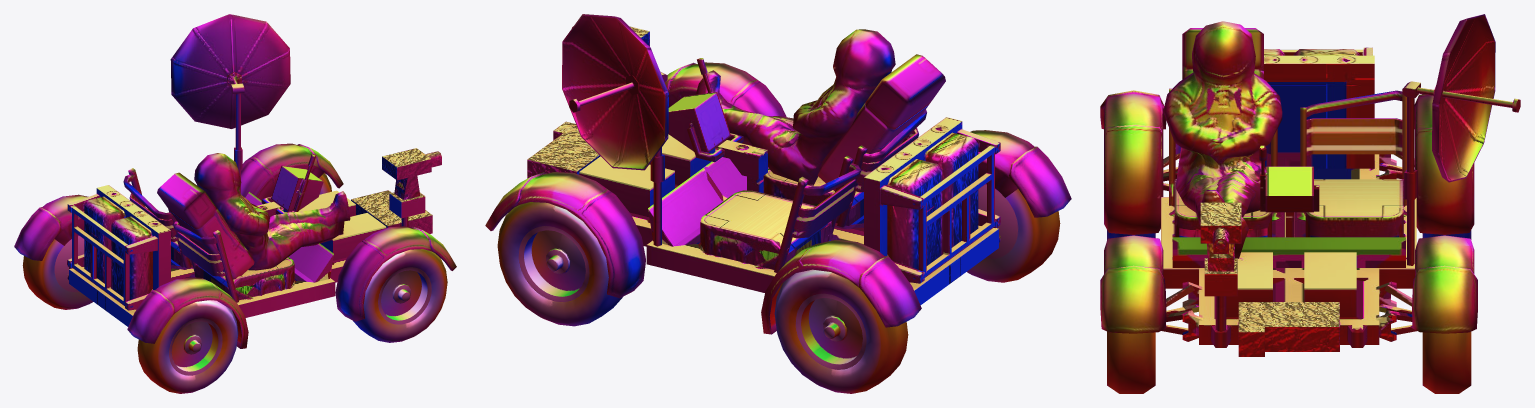
Rendered from f1_july_car_03_with_wheel.dae.
The picture shows the model from 3 angles, left to right: view 1: azimuth 30°, elevation 25°; view 2: azimuth 150°, elevation 25°; view 3: azimuth 270°, elevation 25°; orthographic projection. The views are drawn at different scales.
Parts seen in each view (by area): view 1: lunar_rover_body, lunar_rover_tires; view 2: lunar_rover_body, lunar_rover_tires; view 3: lunar_rover_body, lunar_rover_tires.
Boxes of the visible parts, x1=… form: lunar_rover_body: x1=14, y1=14, x2=456, y2=348; lunar_rover_tires: x1=22, y1=173, x2=447, y2=393; lunar_rover_body: x1=485, y1=14, x2=1071, y2=334; lunar_rover_tires: x1=497, y1=148, x2=1060, y2=393; lunar_rover_body: x1=1100, y1=14, x2=1520, y2=356; lunar_rover_tires: x1=1107, y1=230, x2=1471, y2=393.
Bounding box in the file's own units: 0.2644 × 0.207 × 0.184.
Materials: 2 (2 with a texture image).
